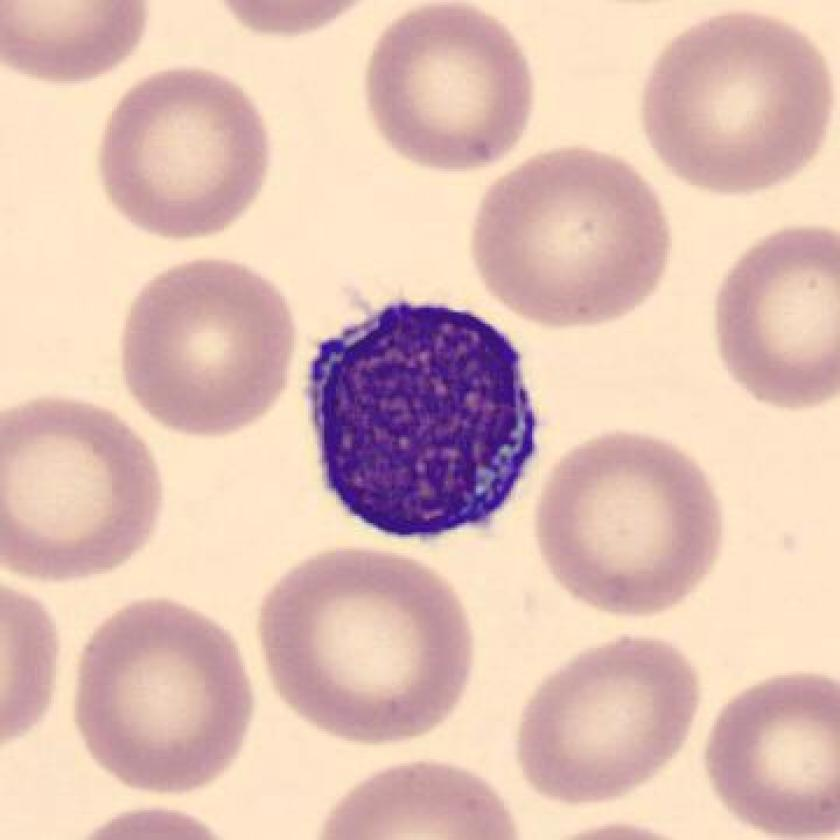lymphocyte: (293, 288, 552, 549)
